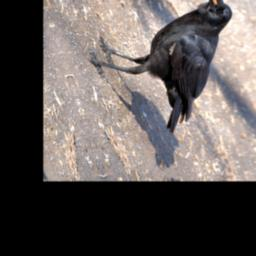Crow: (72, 0, 256, 141)
